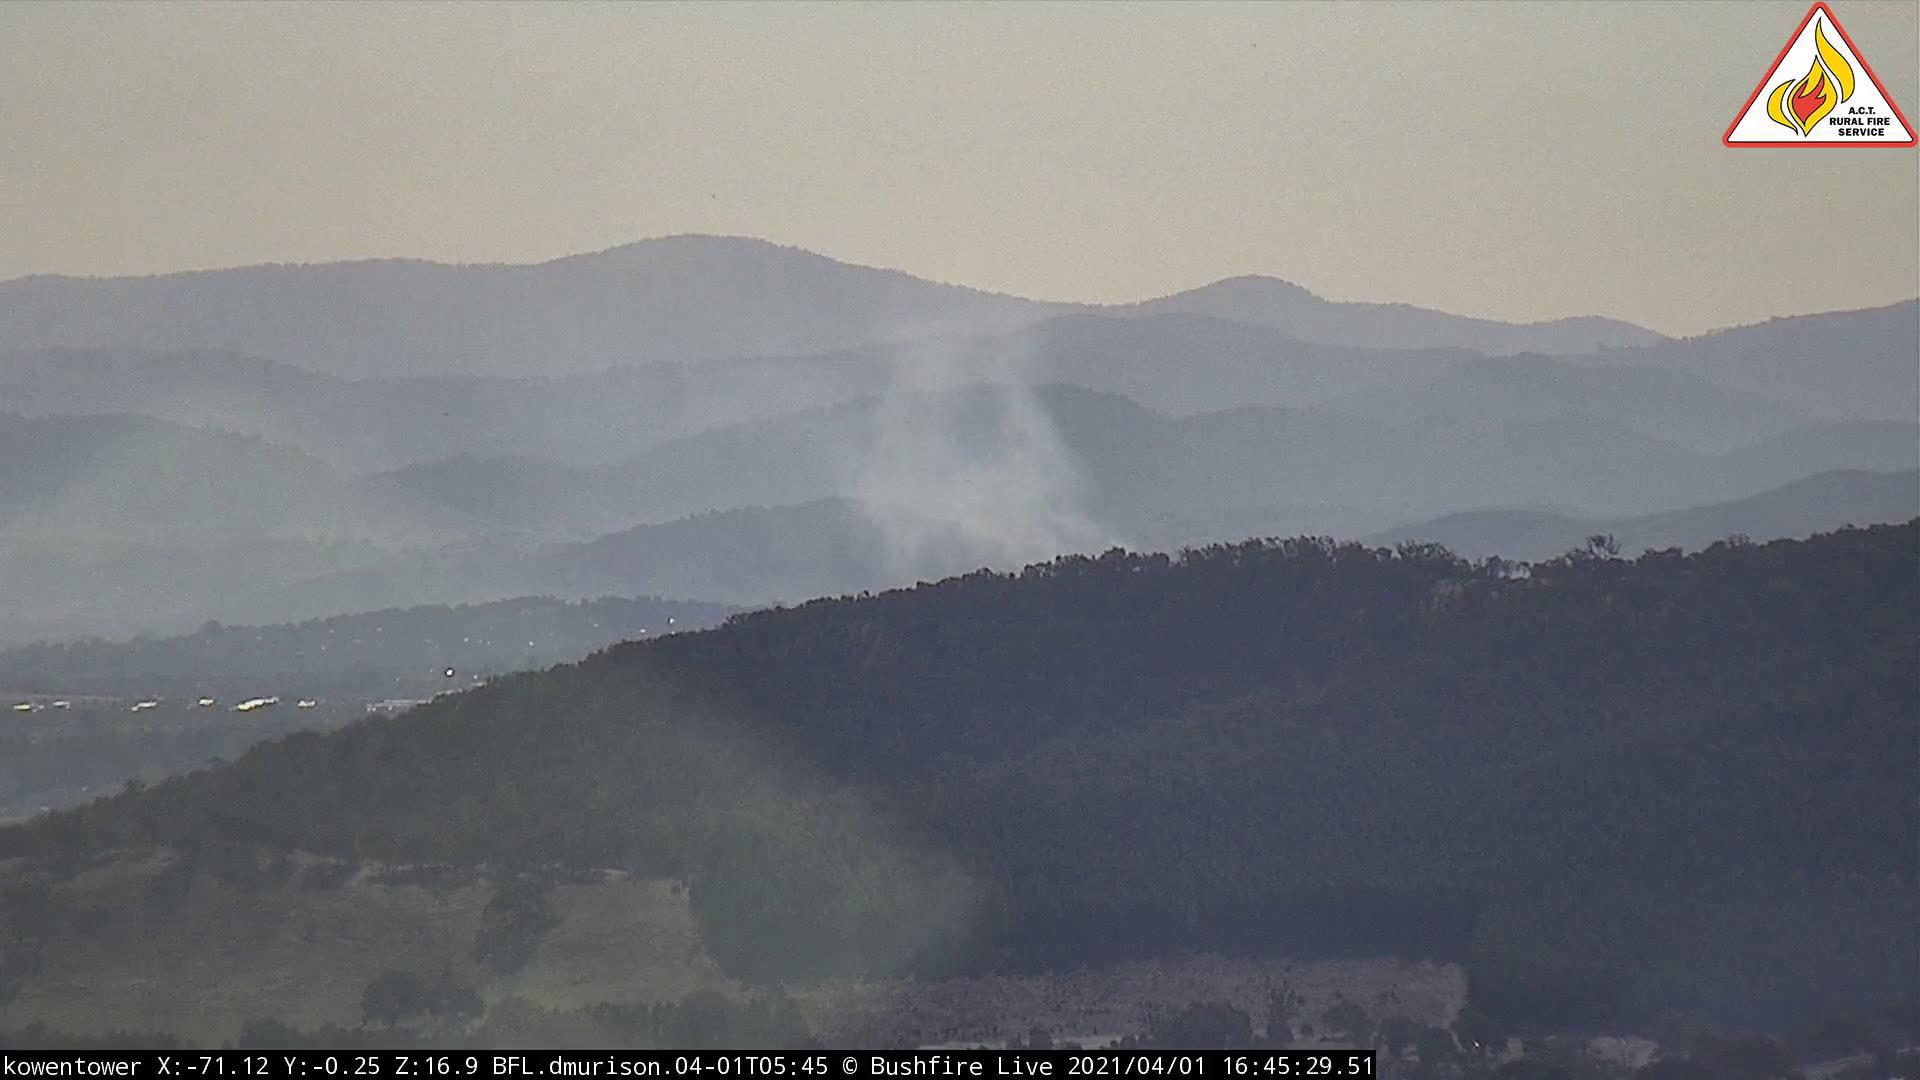Smoke: (793, 261, 1142, 609)
